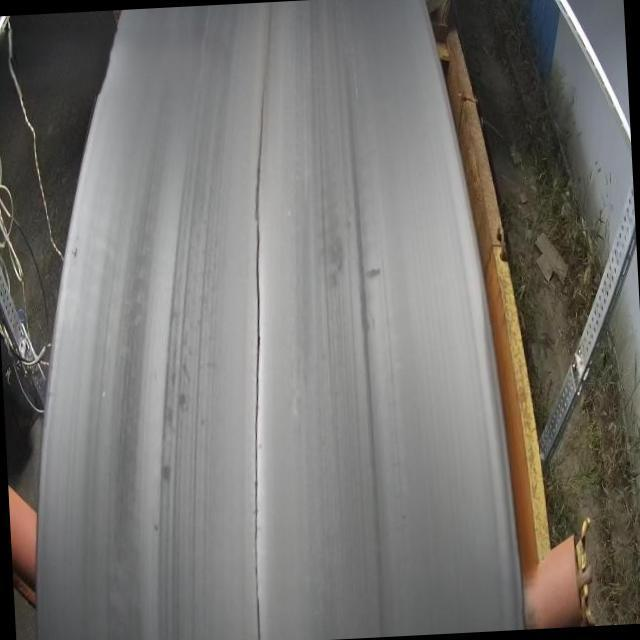Tear: (247, 79, 281, 640)
